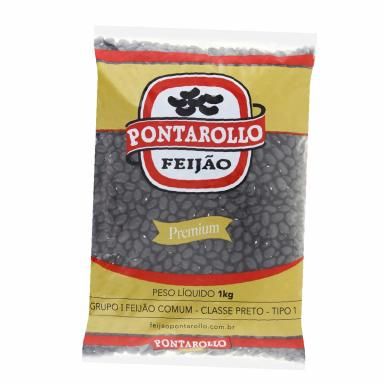beans package: (84, 28, 315, 367)
